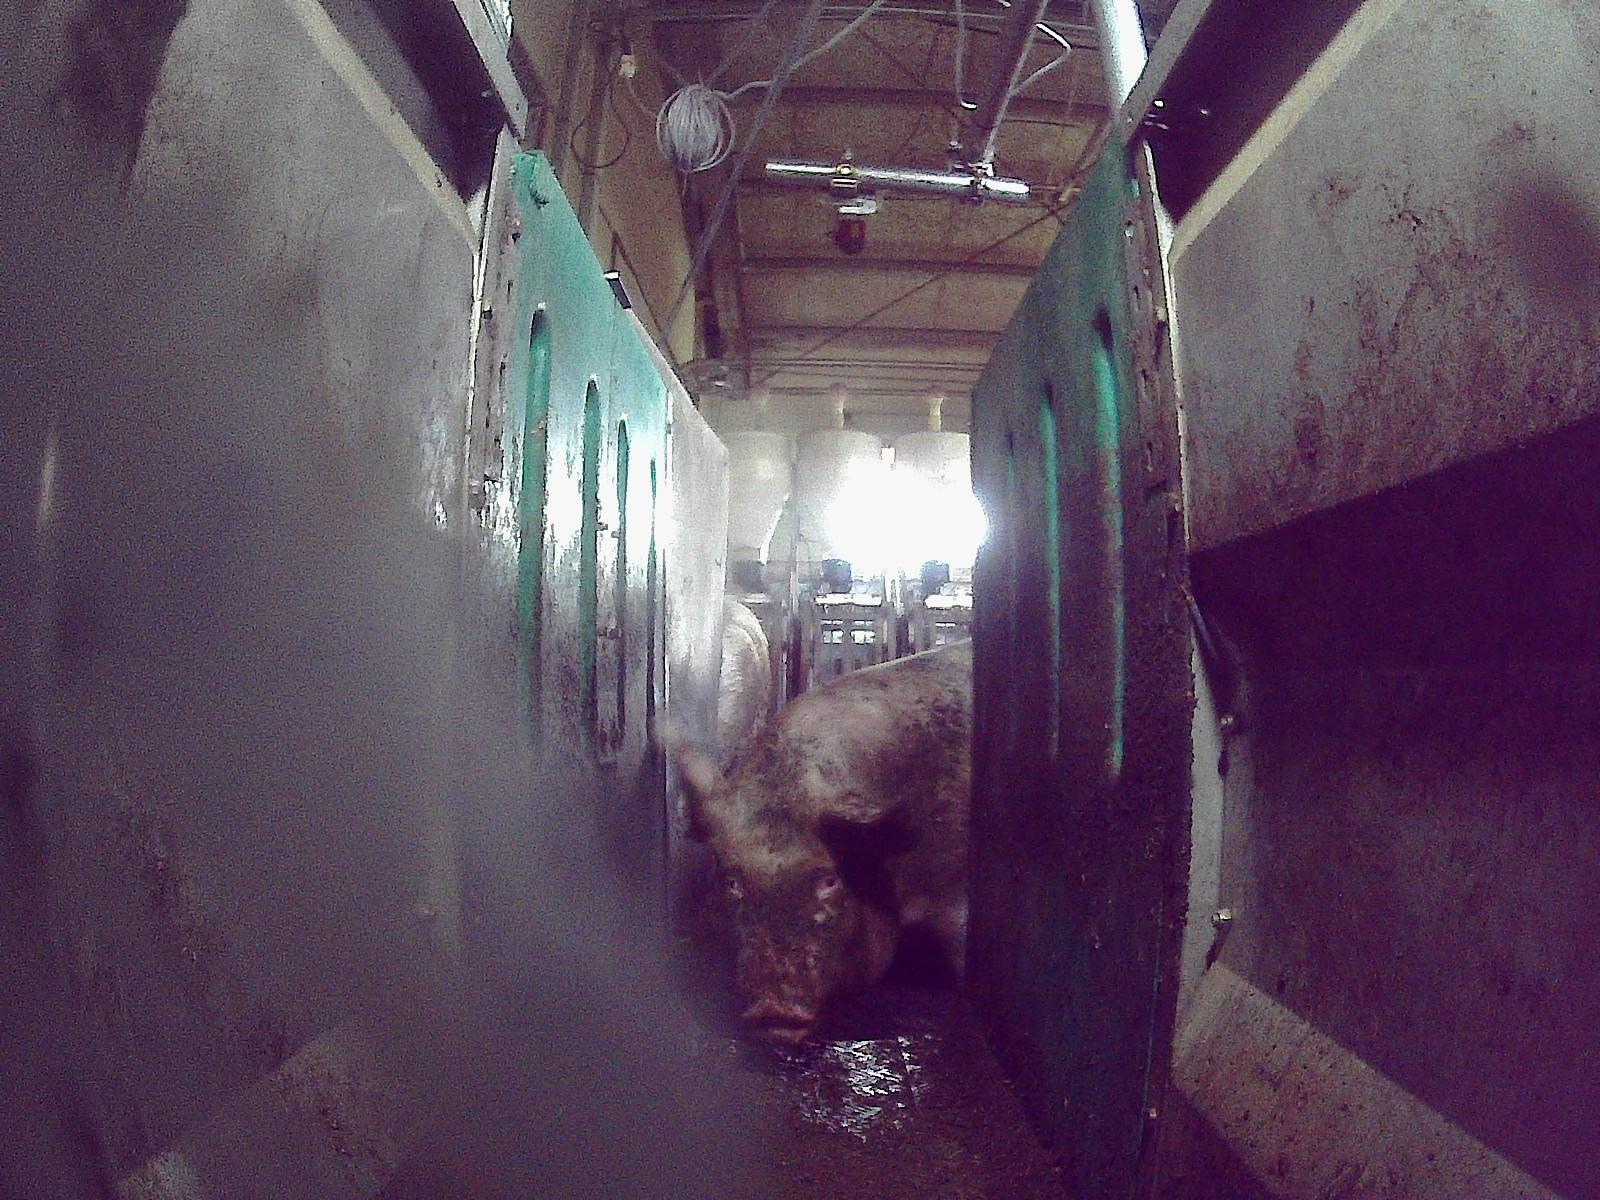Face: (701, 781, 883, 1045)
